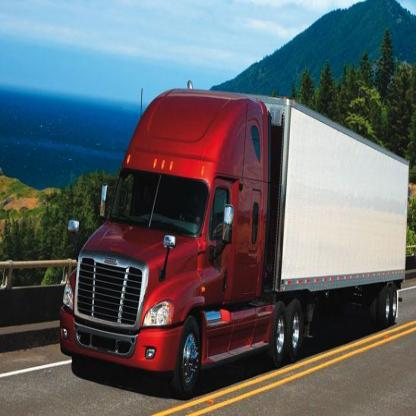Truck: (55, 98, 416, 383)
